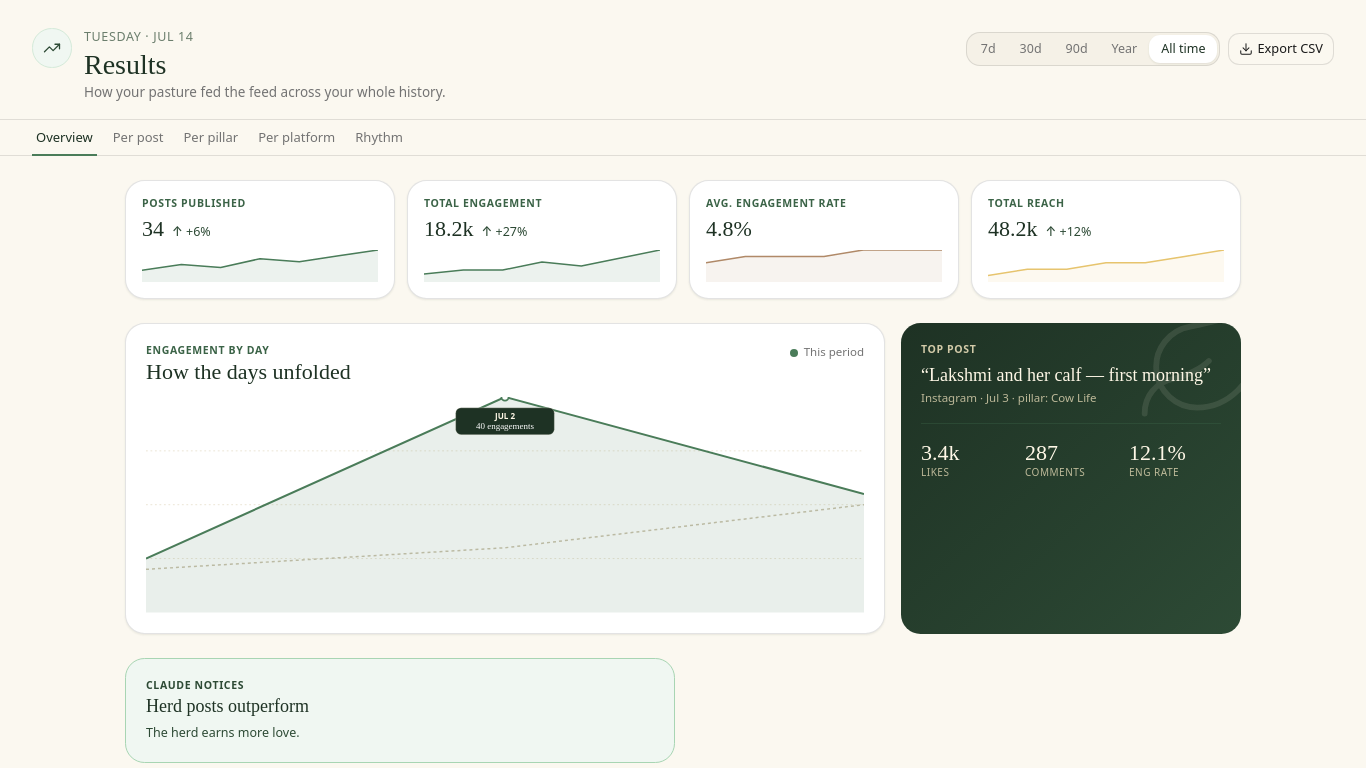
Test case: AnalyticsPage › shows an empty state when no posts exist in the window
Click the tab "Per post" at (138, 138), box [109, 120, 167, 156]
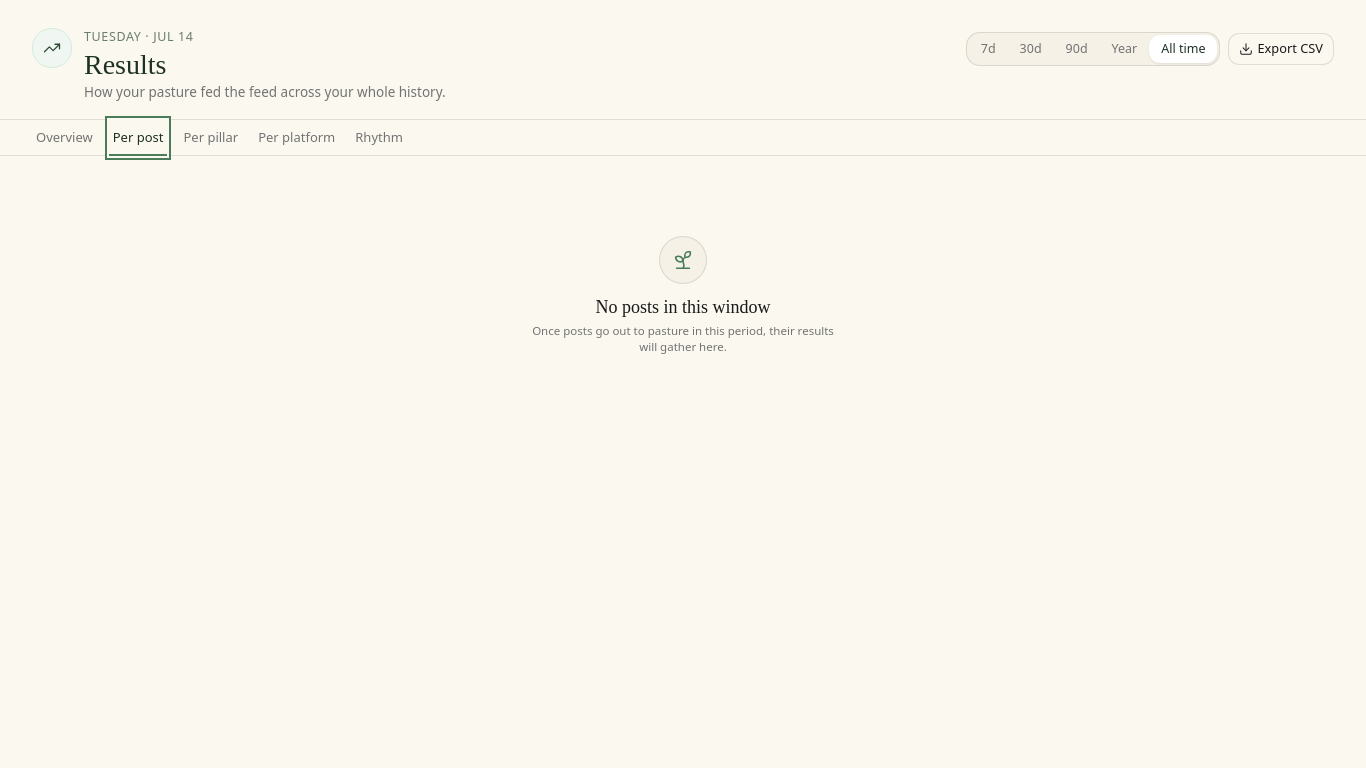
expect the text "No posts in this window" is shown: met, box [596, 296, 770, 319]
